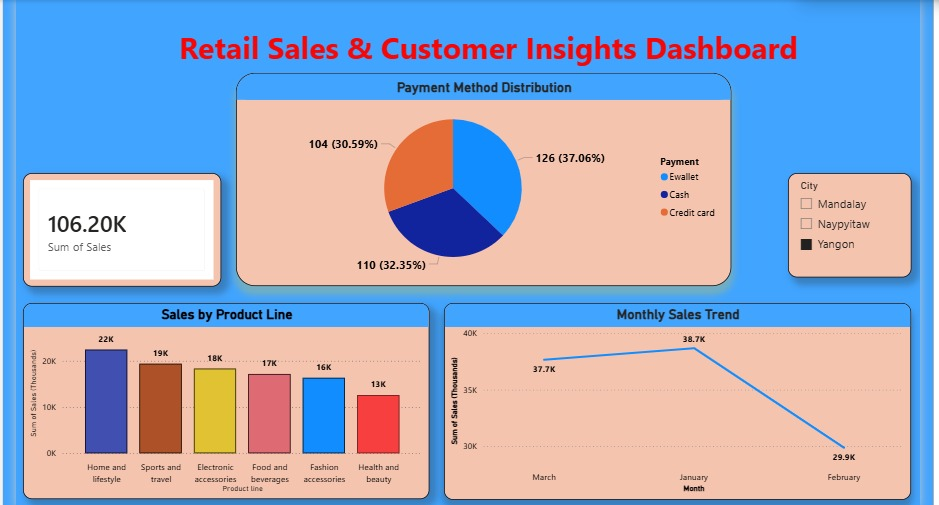

What the dashboard file says about the page in this screenshot:
{"tool":"powerbi","page":{"name":"Page 1","canvas":[1280,720],"ordinal":0},"visuals":[{"type":"cardVisual","fields":{"Data":["Sum(in.Sales)"]},"box":[10.1,245.2,280.5,161.3],"z":0},{"type":"clusteredColumnChart","title":"Sales by Product Line","fields":{"Category":["in.Product line"],"Y":["Sum(in.Sales)"]},"box":[10.1,430,576.2,278],"z":1},{"type":"pieChart","title":"Payment Method Distribution","fields":{"Category":["in.Payment"],"Y":["CountNonNull(in.Invoice ID)"]},"box":[312.4,104.1,702.2,302.4],"z":2},{"type":"lineChart","title":"Monthly Sales Trend","fields":{"Category":["in.Month"],"Y":["Sum(in.Sales)"]},"box":[606.4,430,661.8,278.8],"z":3},{"type":"slicer","fields":{"Values":["in.City"]},"box":[1093.5,245.2,174.7,147.8],"z":4},{"type":"textbox","box":[70.6,31.9,1197.7,67.2],"z":5}]}

Visuals, with their boxes in screenshot pixels (x1, y1, x2, y2):
cardVisual - Sum(in.Sales): detection(0, 151, 204, 271)
"Sales by Product Line" clusteredColumnChart: detection(0, 289, 425, 496)
"Payment Method Distribution" pieChart: detection(221, 46, 744, 271)
"Monthly Sales Trend" lineChart: detection(440, 289, 933, 496)
slicer - in.City: detection(803, 151, 933, 261)
textbox: detection(40, 0, 933, 42)
